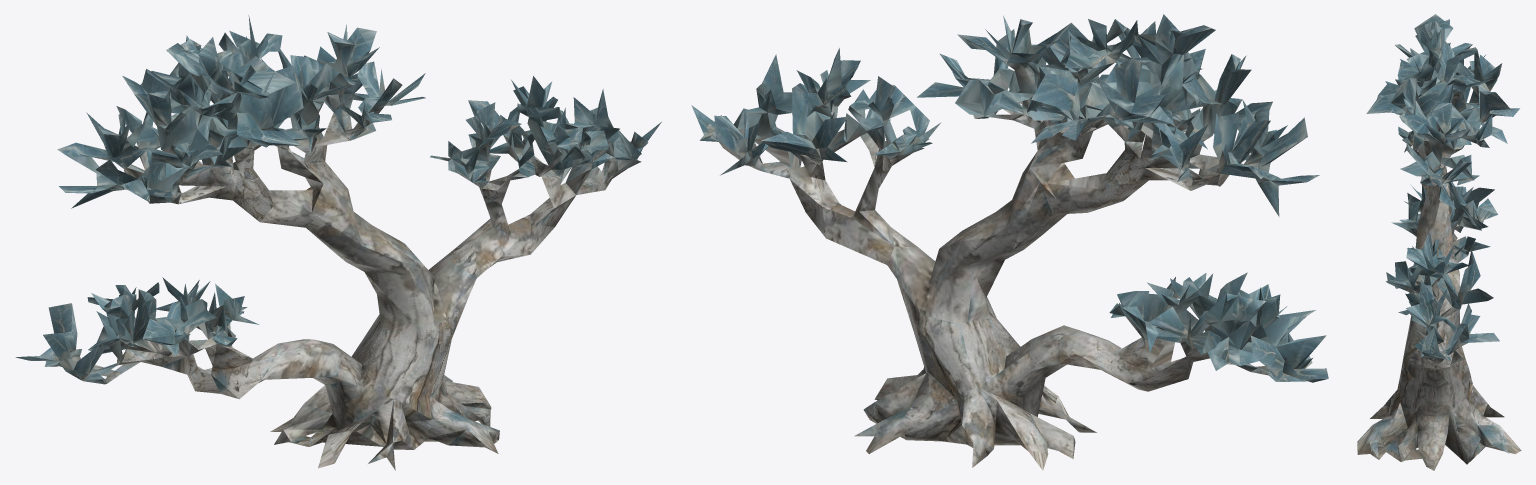
File: fc_dwarfshrub.glb
The picture shows the model from 3 angles, left to right: view 1: azimuth 30°, elevation 25°; view 2: azimuth 150°, elevation 25°; view 3: azimuth 270°, elevation 25°; orthographic projection. The views are drawn at different scales.
Visible parts, largest first — view 1: mesh; view 2: mesh; view 3: mesh.
Part boxes in pixels (bbox=[...]): mesh: bbox=[15, 15, 661, 470]; mesh: bbox=[691, 14, 1328, 470]; mesh: bbox=[1357, 14, 1521, 470].
Size of the model in its own units: 1.88 by 1.25 by 0.5525.
Materials: 1 (1 with a texture image).
